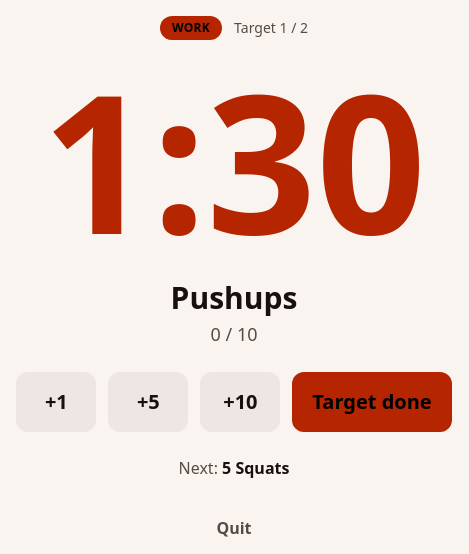
it: RepPlayer › finishes with a summary when the last target completes
What coordinates should you click on to do the following:
click the button "Target done"
I would click on:
 (372, 402)
Its box is x1=292 y1=372 x2=452 y2=432.
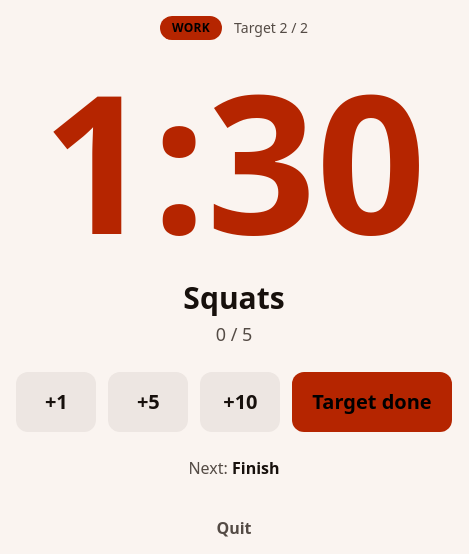
What coordinates should you click on to do the following:
click the button "Target done"
I would click on:
 (372, 402)
Its box is x1=292 y1=372 x2=452 y2=432.
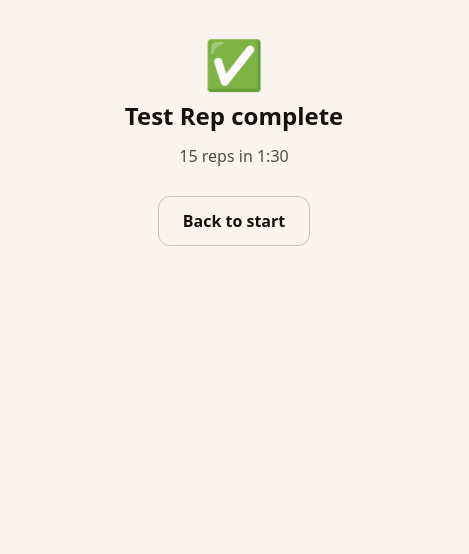
Check: the heading "Test Rep complete" is shown, box x1=125 y1=100 x2=343 y2=132
